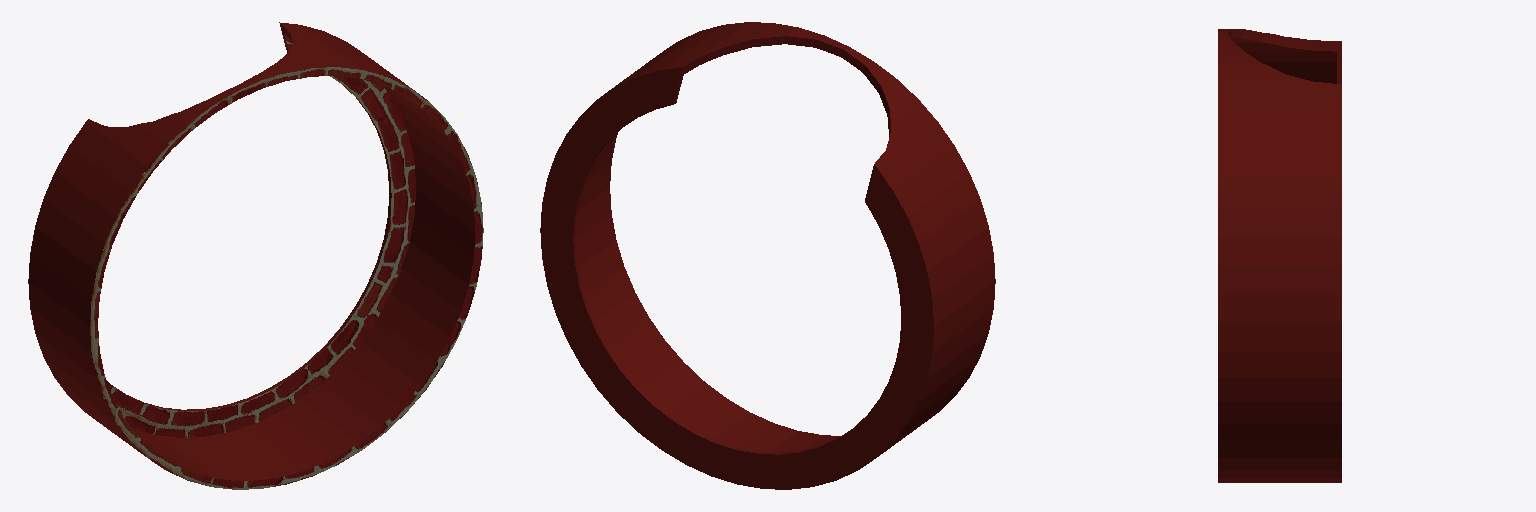
3 views of the same model, side by side, from view 1: azimuth 30°, elevation 25°; view 2: azimuth 150°, elevation 25°; view 3: azimuth 270°, elevation 25° (orthographic).
Bounding box in the file's own units: 48 × 48 × 13.
1 materials, 1 textured.